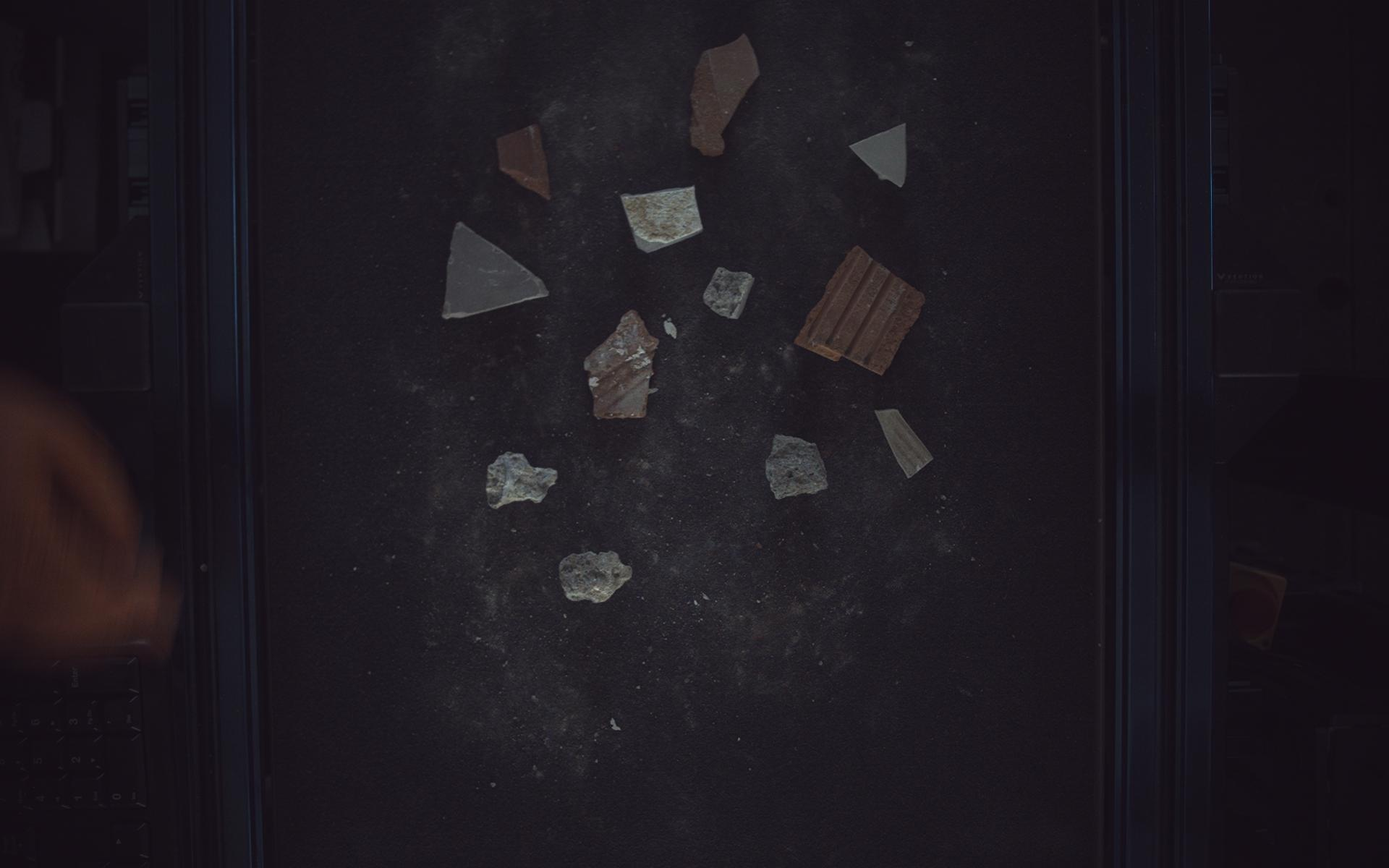brick: (797, 246, 927, 375), (692, 33, 760, 156), (585, 310, 659, 419), (498, 124, 551, 198)
concrete: (486, 452, 557, 509), (767, 436, 829, 500), (559, 552, 632, 603), (705, 266, 755, 319)
tile: (442, 221, 548, 318), (621, 185, 703, 252), (878, 409, 935, 478), (852, 122, 908, 186)
